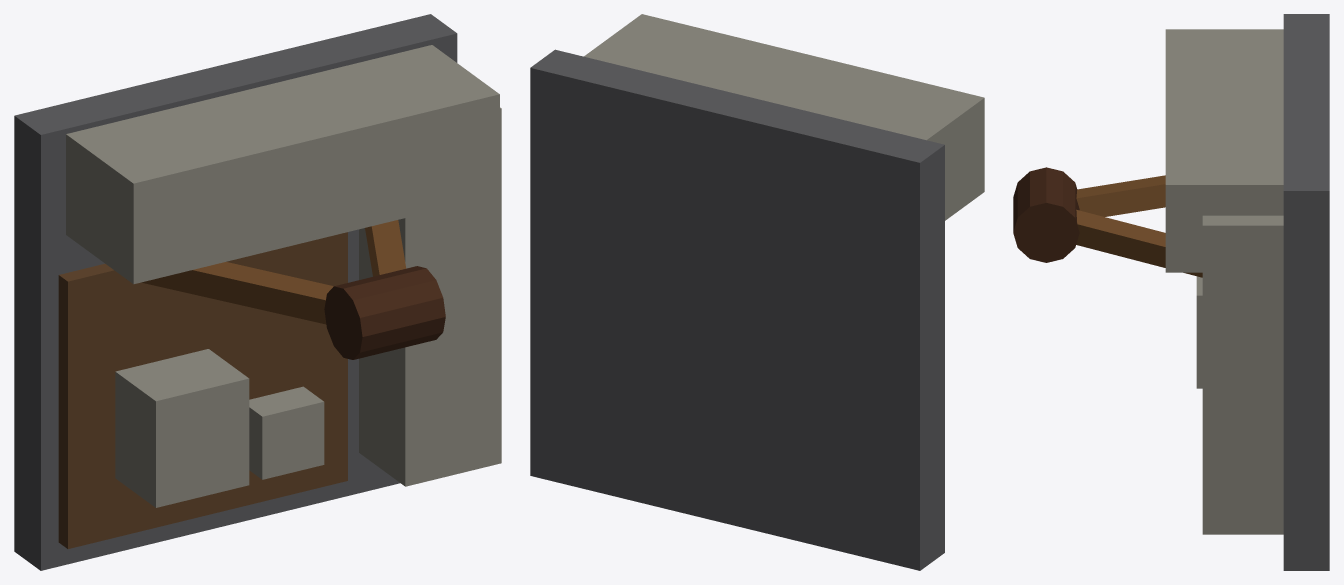
The model's file is quarry.obj.
3 views of the same model, side by side, from view 1: azimuth 30°, elevation 25°; view 2: azimuth 150°, elevation 25°; view 3: azimuth 270°, elevation 25° (orthographic). The views are drawn at different scales.
Visible parts, largest first — view 1: quarry_cut_face_north, quarry_excavation_floor, quarry_base_stone, quarry_cut_face_east, quarry_quarried_block_a, quarry_hoist_roller, quarry_quarried_block_b, quarry_a_frame_left, quarry_a_frame_right; view 2: quarry_base_stone, quarry_cut_face_north; view 3: quarry_cut_face_east, quarry_base_stone, quarry_cut_face_north, quarry_hoist_roller, quarry_a_frame_right, quarry_a_frame_left, quarry_quarried_block_a.
Part boxes in pixels (x1,y1,x2,y2): quarry_cut_face_north: (66,45,499,284); quarry_excavation_floor: (58,232,347,548); quarry_base_stone: (14,14,457,570); quarry_cut_face_east: (359,107,501,486); quarry_quarried_block_a: (115,349,249,507); quarry_hoist_roller: (324,266,445,359); quarry_quarried_block_b: (249,386,324,479); quarry_a_frame_left: (141,262,333,324); quarry_a_frame_right: (365,220,406,276); quarry_base_stone: (530,49,944,570); quarry_cut_face_north: (584,14,984,220); quarry_cut_face_east: (1202,215,1283,534); quarry_base_stone: (1283,14,1329,570); quarry_cut_face_north: (1165,29,1283,272); quarry_hoist_roller: (1013,167,1079,262); quarry_a_frame_right: (1076,209,1202,277); quarry_a_frame_left: (1076,175,1165,216); quarry_quarried_block_a: (1196,276,1202,388).
Bounding box in the file's own units: 2.9 × 2.9 × 2.19.
